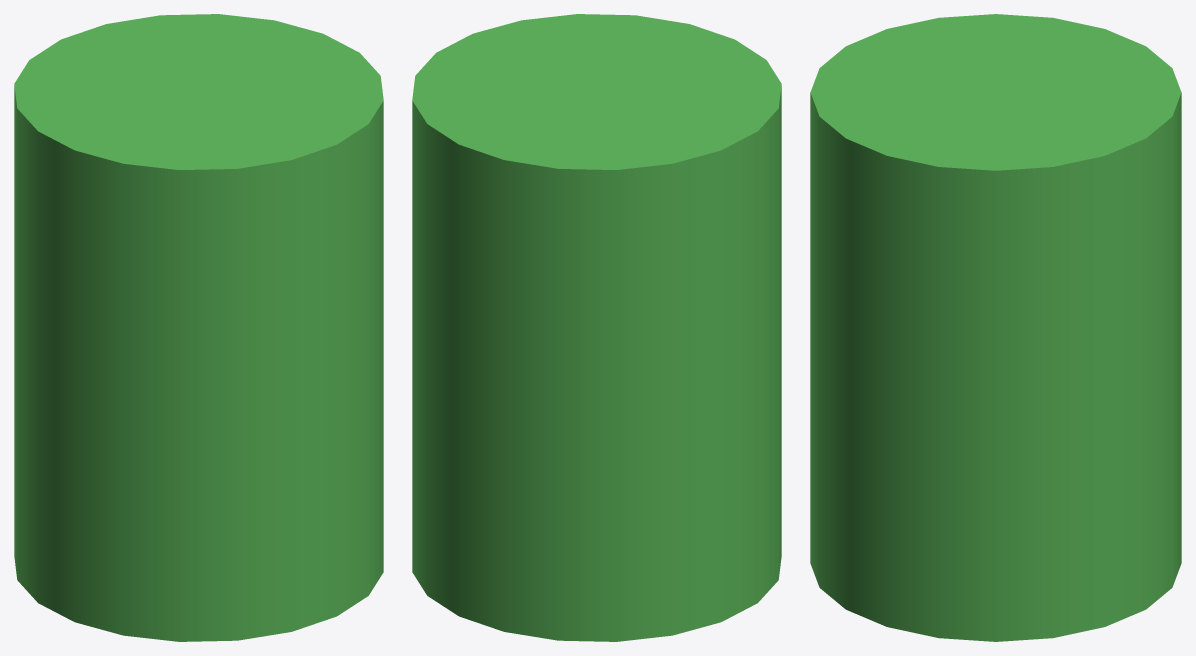
File: Chamber_Liquid.fbx
3 views of the same model, side by side, from view 1: azimuth 30°, elevation 25°; view 2: azimuth 150°, elevation 25°; view 3: azimuth 270°, elevation 25° (orthographic).
Parts seen in each view (by area): view 1: Chamber_Liquid; view 2: Chamber_Liquid; view 3: Chamber_Liquid.
Part boxes in pixels (x1,y1,x2,y2): Chamber_Liquid: (14,14,383,641); Chamber_Liquid: (412,14,781,641); Chamber_Liquid: (810,14,1181,641).
Bounding box in the file's own units: 235 × 329 × 235.
